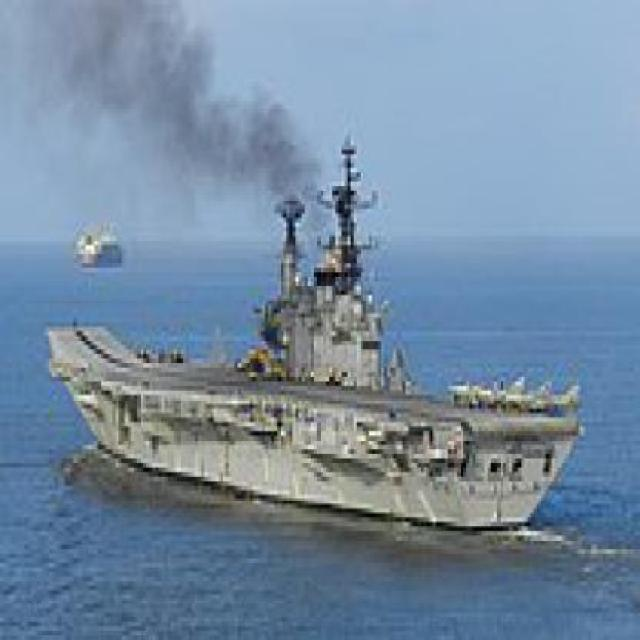warship2: (19, 178, 568, 541)
